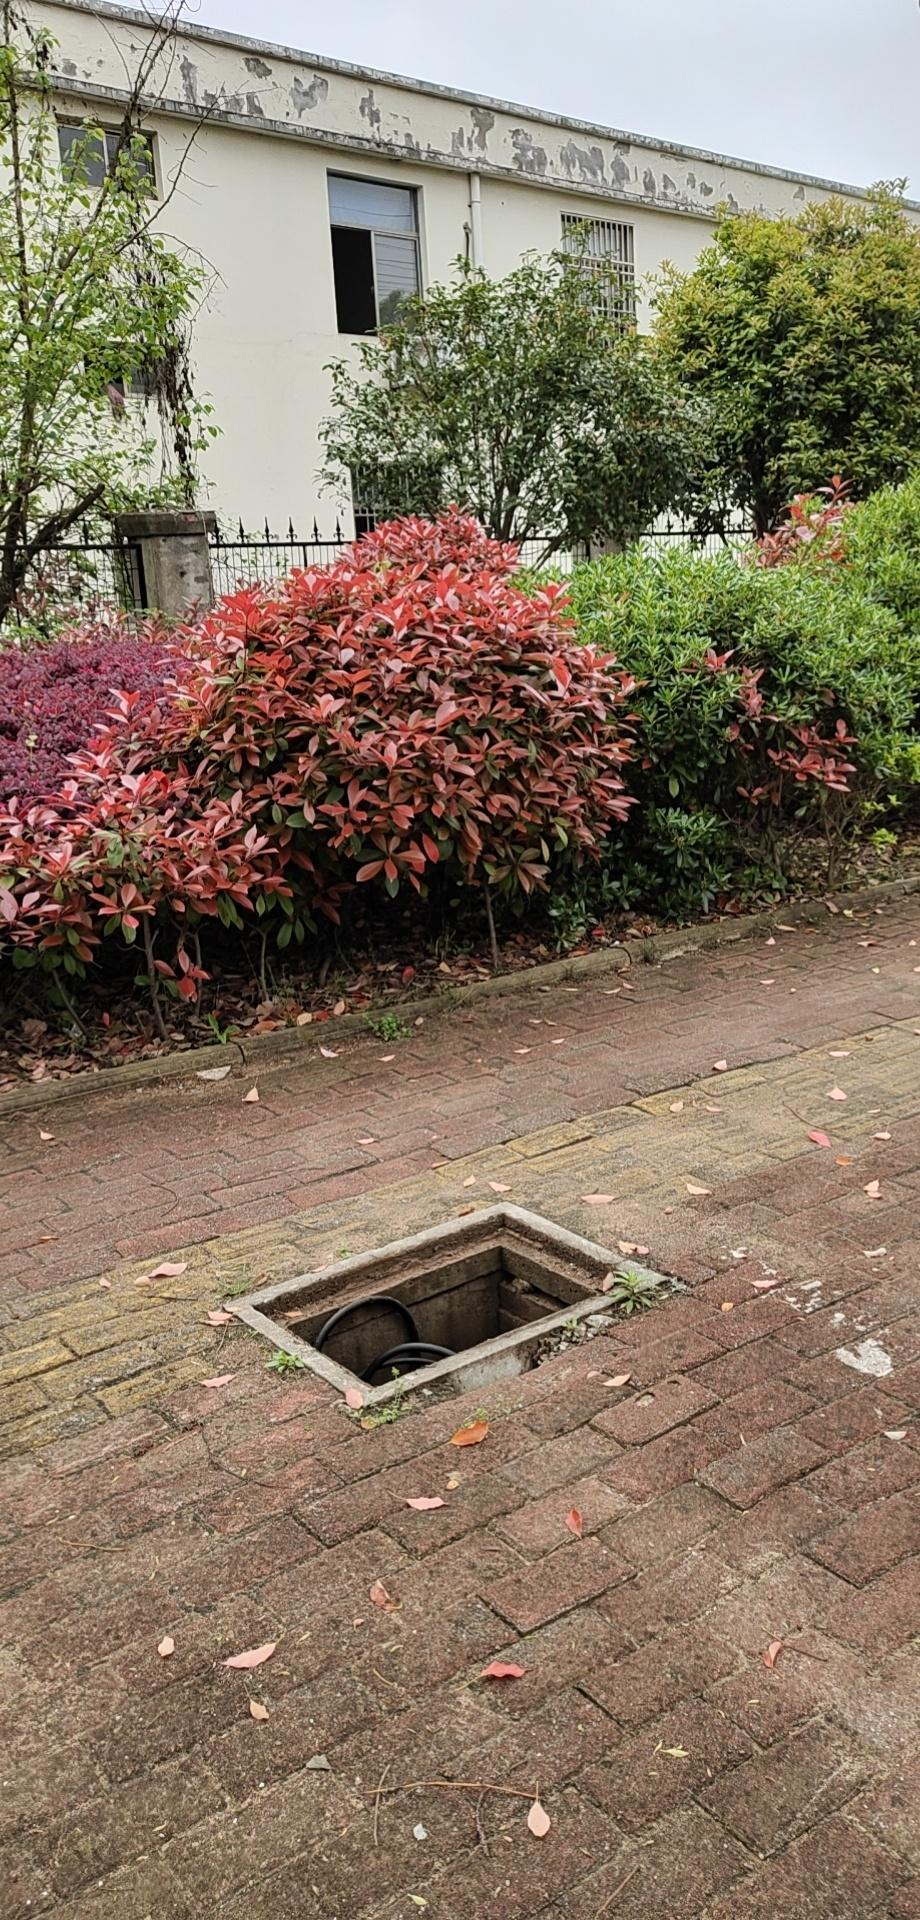wellcover: (261, 1205, 635, 1387)
